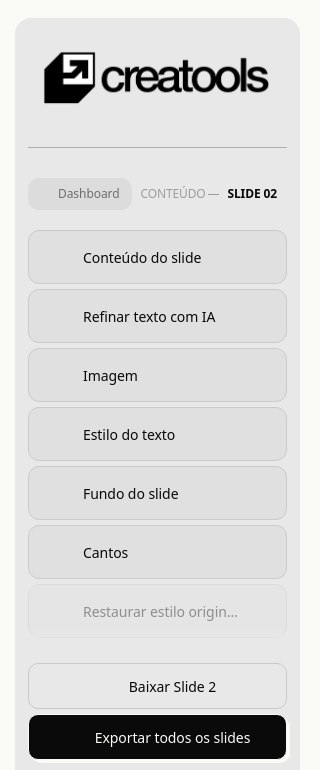
Test: TEMPLATE 2 — imagem › com imagem, aparecem a miniatura e os ajustes
Step 1. Click the button "Imagem" → (158, 375), box 29,349 -> 286,401
(page scrolled)
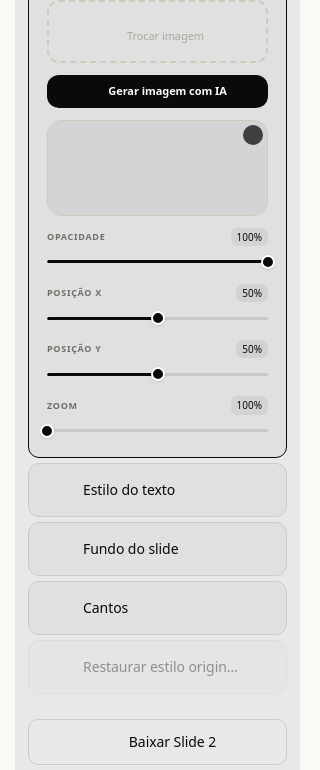
Now the text "Opacidade" is shown, box 47,230 -> 106,243
Now the text "Zoom" is shown, box 47,399 -> 78,412
